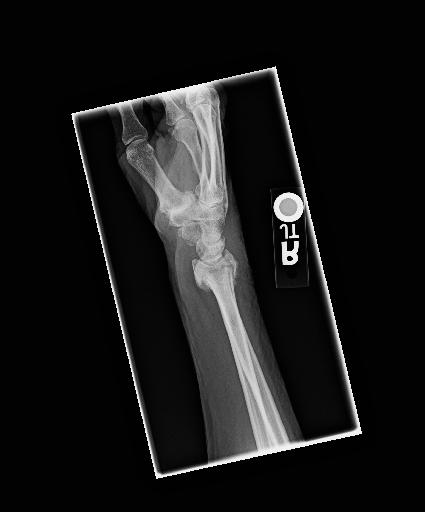fractured: (184, 261, 245, 292)
